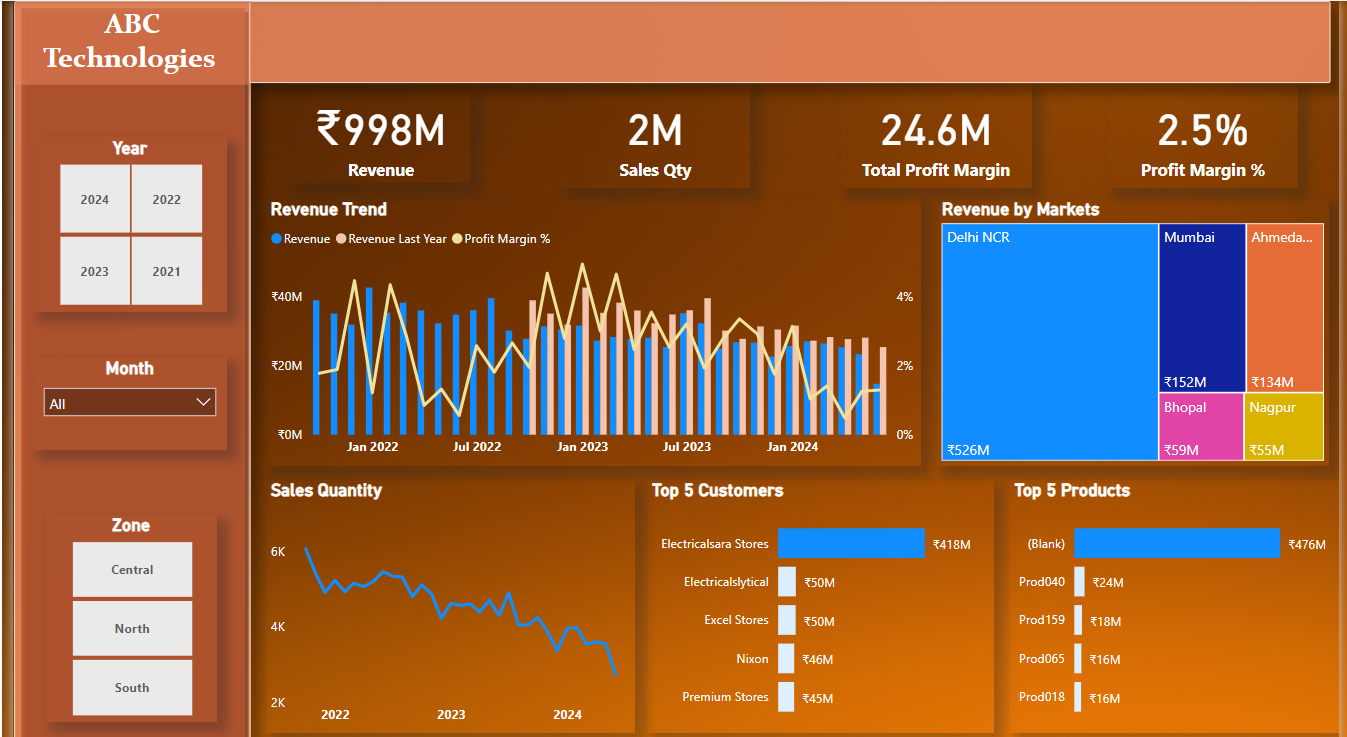

The page's visual inventory and layout, read from the dashboard file:
{"tool":"powerbi","page":{"name":"Sales Dashboard","canvas":[1280,720],"ordinal":0},"visuals":[{"type":"card","fields":{"Values":["BaseMeasures (2).Revenue"]},"box":[268.9,85.6,172.5,90.5],"z":0},{"type":"card","fields":{"Values":["BaseMeasures (2).Sales Qty"]},"box":[528.2,80.8,183.3,100.1],"z":1000},{"type":"treemap","title":"Revenue by Markets","fields":{"Group":["markets.markets_name"],"Values":["BaseMeasures (2).Revenue"]},"box":[891.3,190.6,378.7,258.1],"z":2000},{"type":"barChart","title":"Top 5 Customers","fields":{"Y":["BaseMeasures (2).Revenue"],"Category":["customer.custmer_name"]},"box":[611.5,461.9,335.3,244.8],"z":3000},{"type":"barChart","title":"Top 5 Products","fields":{"Y":["BaseMeasures (2).Revenue"],"Category":["products.product_code"]},"box":[961.2,461.9,318.4,244.8],"z":4000},{"type":"card","fields":{"Values":["BaseMeasures (2).Total Profit Margin"]},"box":[798.4,80.8,184.5,100.1],"z":5000},{"type":"card","fields":{"Values":["BaseMeasures (2).Profit Margin %"]},"box":[1056.5,80.8,183.3,100.1],"z":6000},{"type":"lineClusteredColumnComboChart","title":"Revenue Trend","fields":{"Y":["BaseMeasures (2).Revenue","BaseMeasures (2).Revenue LY"],"Y2":["BaseMeasures (2).Profit Margin %"],"Category":["dates.cy_date"]},"box":[243.6,190.6,633.2,258.1],"z":7000},{"type":"shape","box":[1.2,0,227.9,720],"z":8000},{"type":"slicer","title":"Zone","fields":{"Values":["markets.zone"]},"box":[31.4,495.7,165.2,200.2],"z":9000},{"type":"slicer","title":"Month","fields":{"Values":["dates.month_name"]},"box":[19.3,343.7,186.9,89.2],"z":10000},{"type":"slicer","title":"Year","fields":{"Values":["dates.year"]},"box":[19.3,131.5,186.9,168.8],"z":11000},{"type":"card","fields":{"Values":["BaseMeasures (2).meas_market_name"]},"box":[227.9,0,1043.2,79.6],"z":13000},{"type":"lineClusteredColumnComboChart","title":"Sales Quantity","fields":{"Y2":["CountNonNull(transactions.sales_qty)"],"Category":["dates.cy_date"]},"box":[243.6,461.9,357,244.8],"z":14000},{"type":"textbox","box":[1.2,0,227.9,80.8],"z":14001}]}

Visuals, with their boxes in screenshot pixels (x1, y1, x2, y2), scaled from the page's 1280x720 canvas onto the 1347x737 screenshot:
card - BaseMeasures (2).Revenue: [283,88,465,180]
card - BaseMeasures (2).Sales Qty: [556,83,749,185]
"Revenue by Markets" treemap: [938,195,1336,459]
"Top 5 Customers" barChart: [644,473,996,723]
"Top 5 Products" barChart: [1012,473,1346,723]
card - BaseMeasures (2).Total Profit Margin: [840,83,1034,185]
card - BaseMeasures (2).Profit Margin %: [1112,83,1305,185]
"Revenue Trend" lineClusteredColumnComboChart: [256,195,923,459]
shape: [1,0,241,736]
"Zone" slicer: [33,507,207,712]
"Month" slicer: [20,352,217,443]
"Year" slicer: [20,135,217,307]
card - BaseMeasures (2).meas_market_name: [240,0,1338,81]
"Sales Quantity" lineClusteredColumnComboChart: [256,473,632,723]
textbox: [1,0,241,83]
